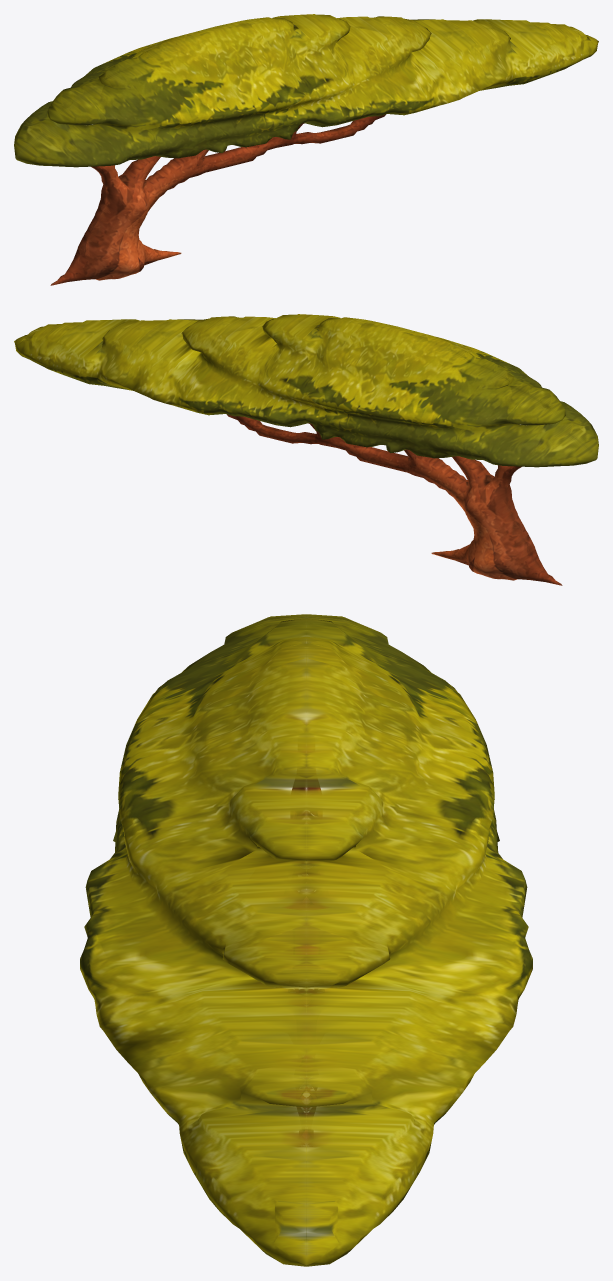
The model's file is 24_trees_c_r00_c00.glb.
3 views of the same model, one above another, from view 1: azimuth 30°, elevation 25°; view 2: azimuth 150°, elevation 25°; view 3: azimuth 270°, elevation 25° (orthographic). The views are drawn at different scales.
Visible parts, largest first — view 1: 24_trees_c_r00_c00; view 2: 24_trees_c_r00_c00; view 3: 24_trees_c_r00_c00.
Part boxes in pixels (<box>): 24_trees_c_r00_c00: <box>14,14,598,285</box>; 24_trees_c_r00_c00: <box>14,314,598,585</box>; 24_trees_c_r00_c00: <box>80,614,532,1266</box>.
Bounding box in the file's own units: 10.05 × 3.57 × 3.38.
1 material, 1 textured.
